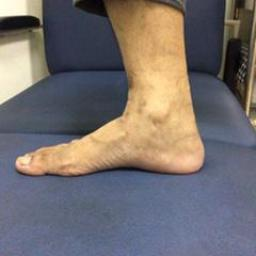Medial View -Right Foot-: (9, 81, 212, 195)
